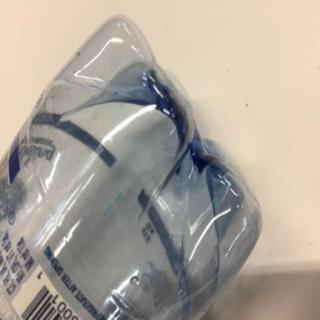Plastic-bottle: (1, 13, 267, 320)
